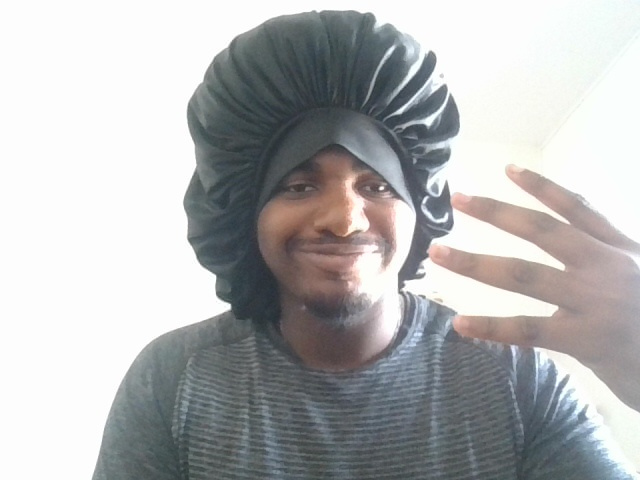I am Better Than Yu: (419, 148, 640, 418)
